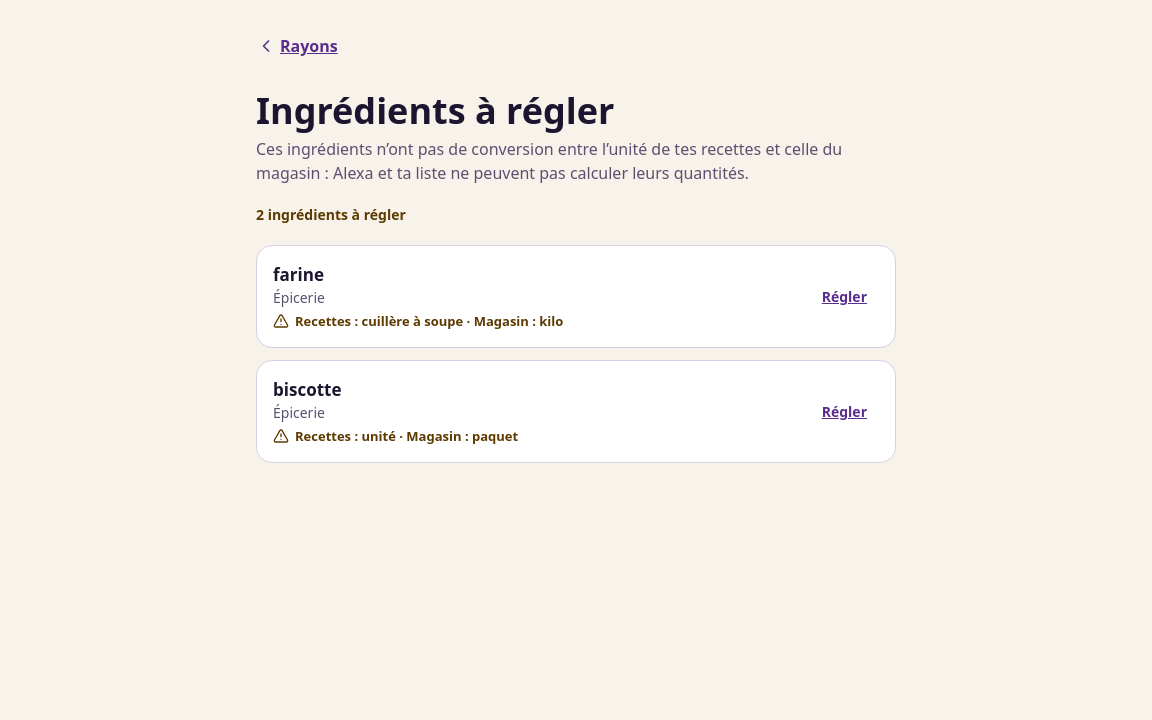
Ingrédients à régler : l’écran › enregistre la conversion de cet ingrédient, relit la liste et la carte disparaît
Click the button "Régler" in the row of "farine": click(844, 296) [810,274,879,318]
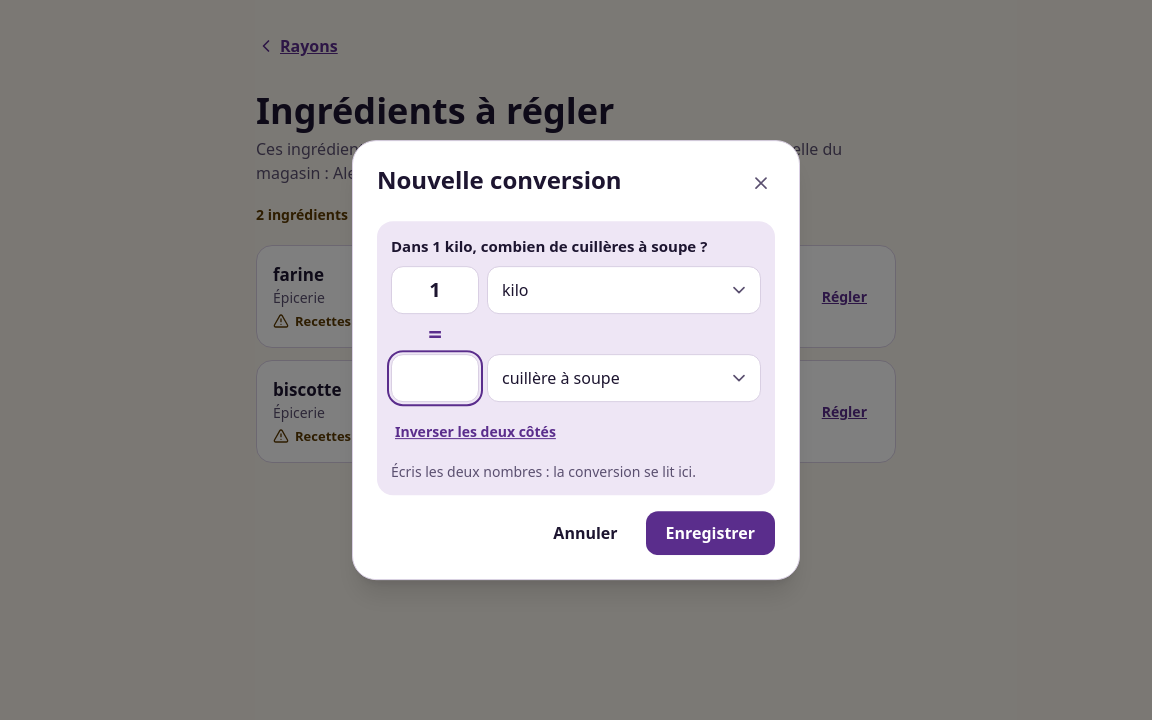
Expected: the dialog is shown, [352,140,800,580]
In the field named "Quantité d": (435, 378) [391,354,479,402], type "100"
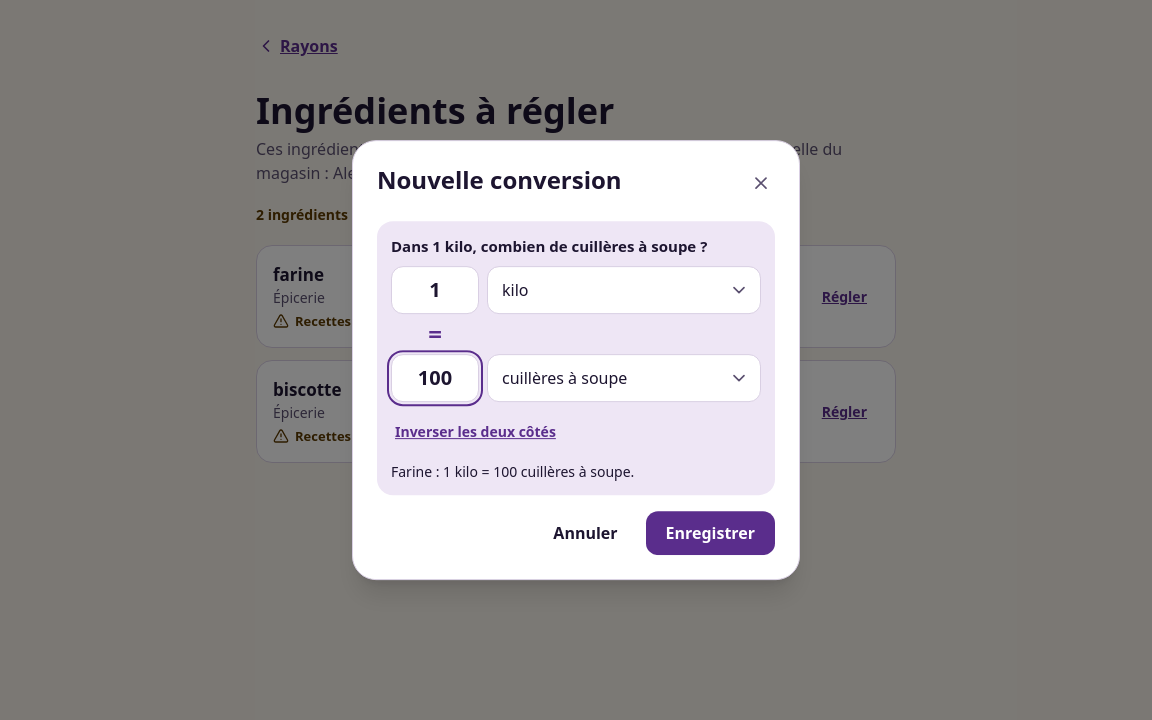
Submit the form, box [377,221,775,555]
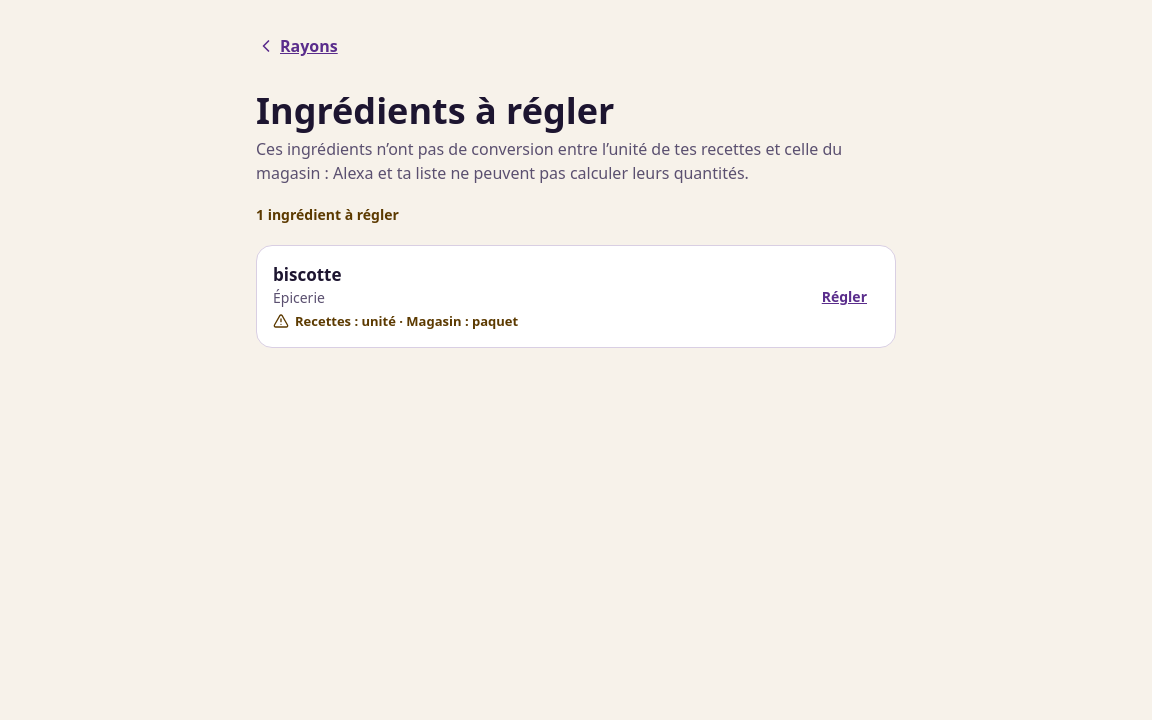
Expected: the list item with test id "to-fix-card" shows "biscotte", [273,262,798,288]
Expected: the message "1 ingrédient à régler" is shown, [256,205,399,224]
